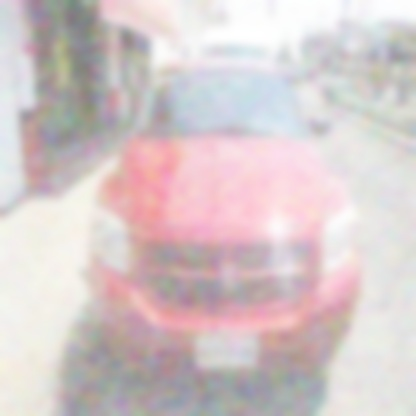Vehicle: (88, 59, 364, 377)
